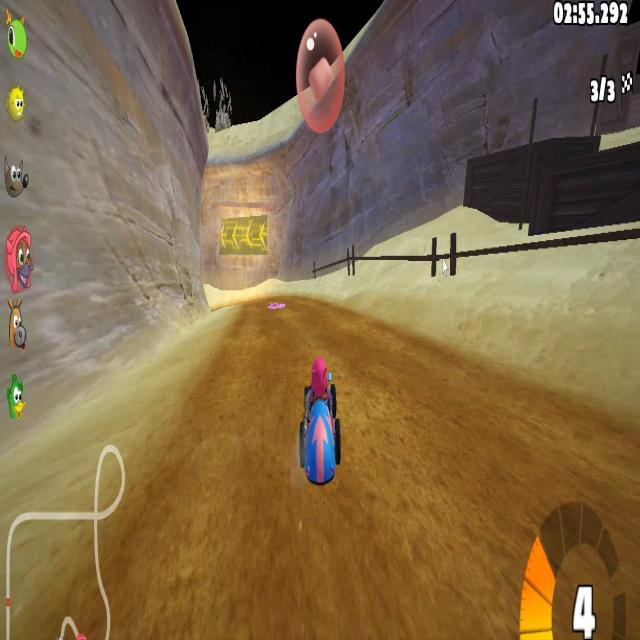obstacle: (266, 294, 290, 319)
off_track: (402, 136, 629, 310)
player_kart: (292, 362, 342, 497)
track: (202, 317, 378, 354)
